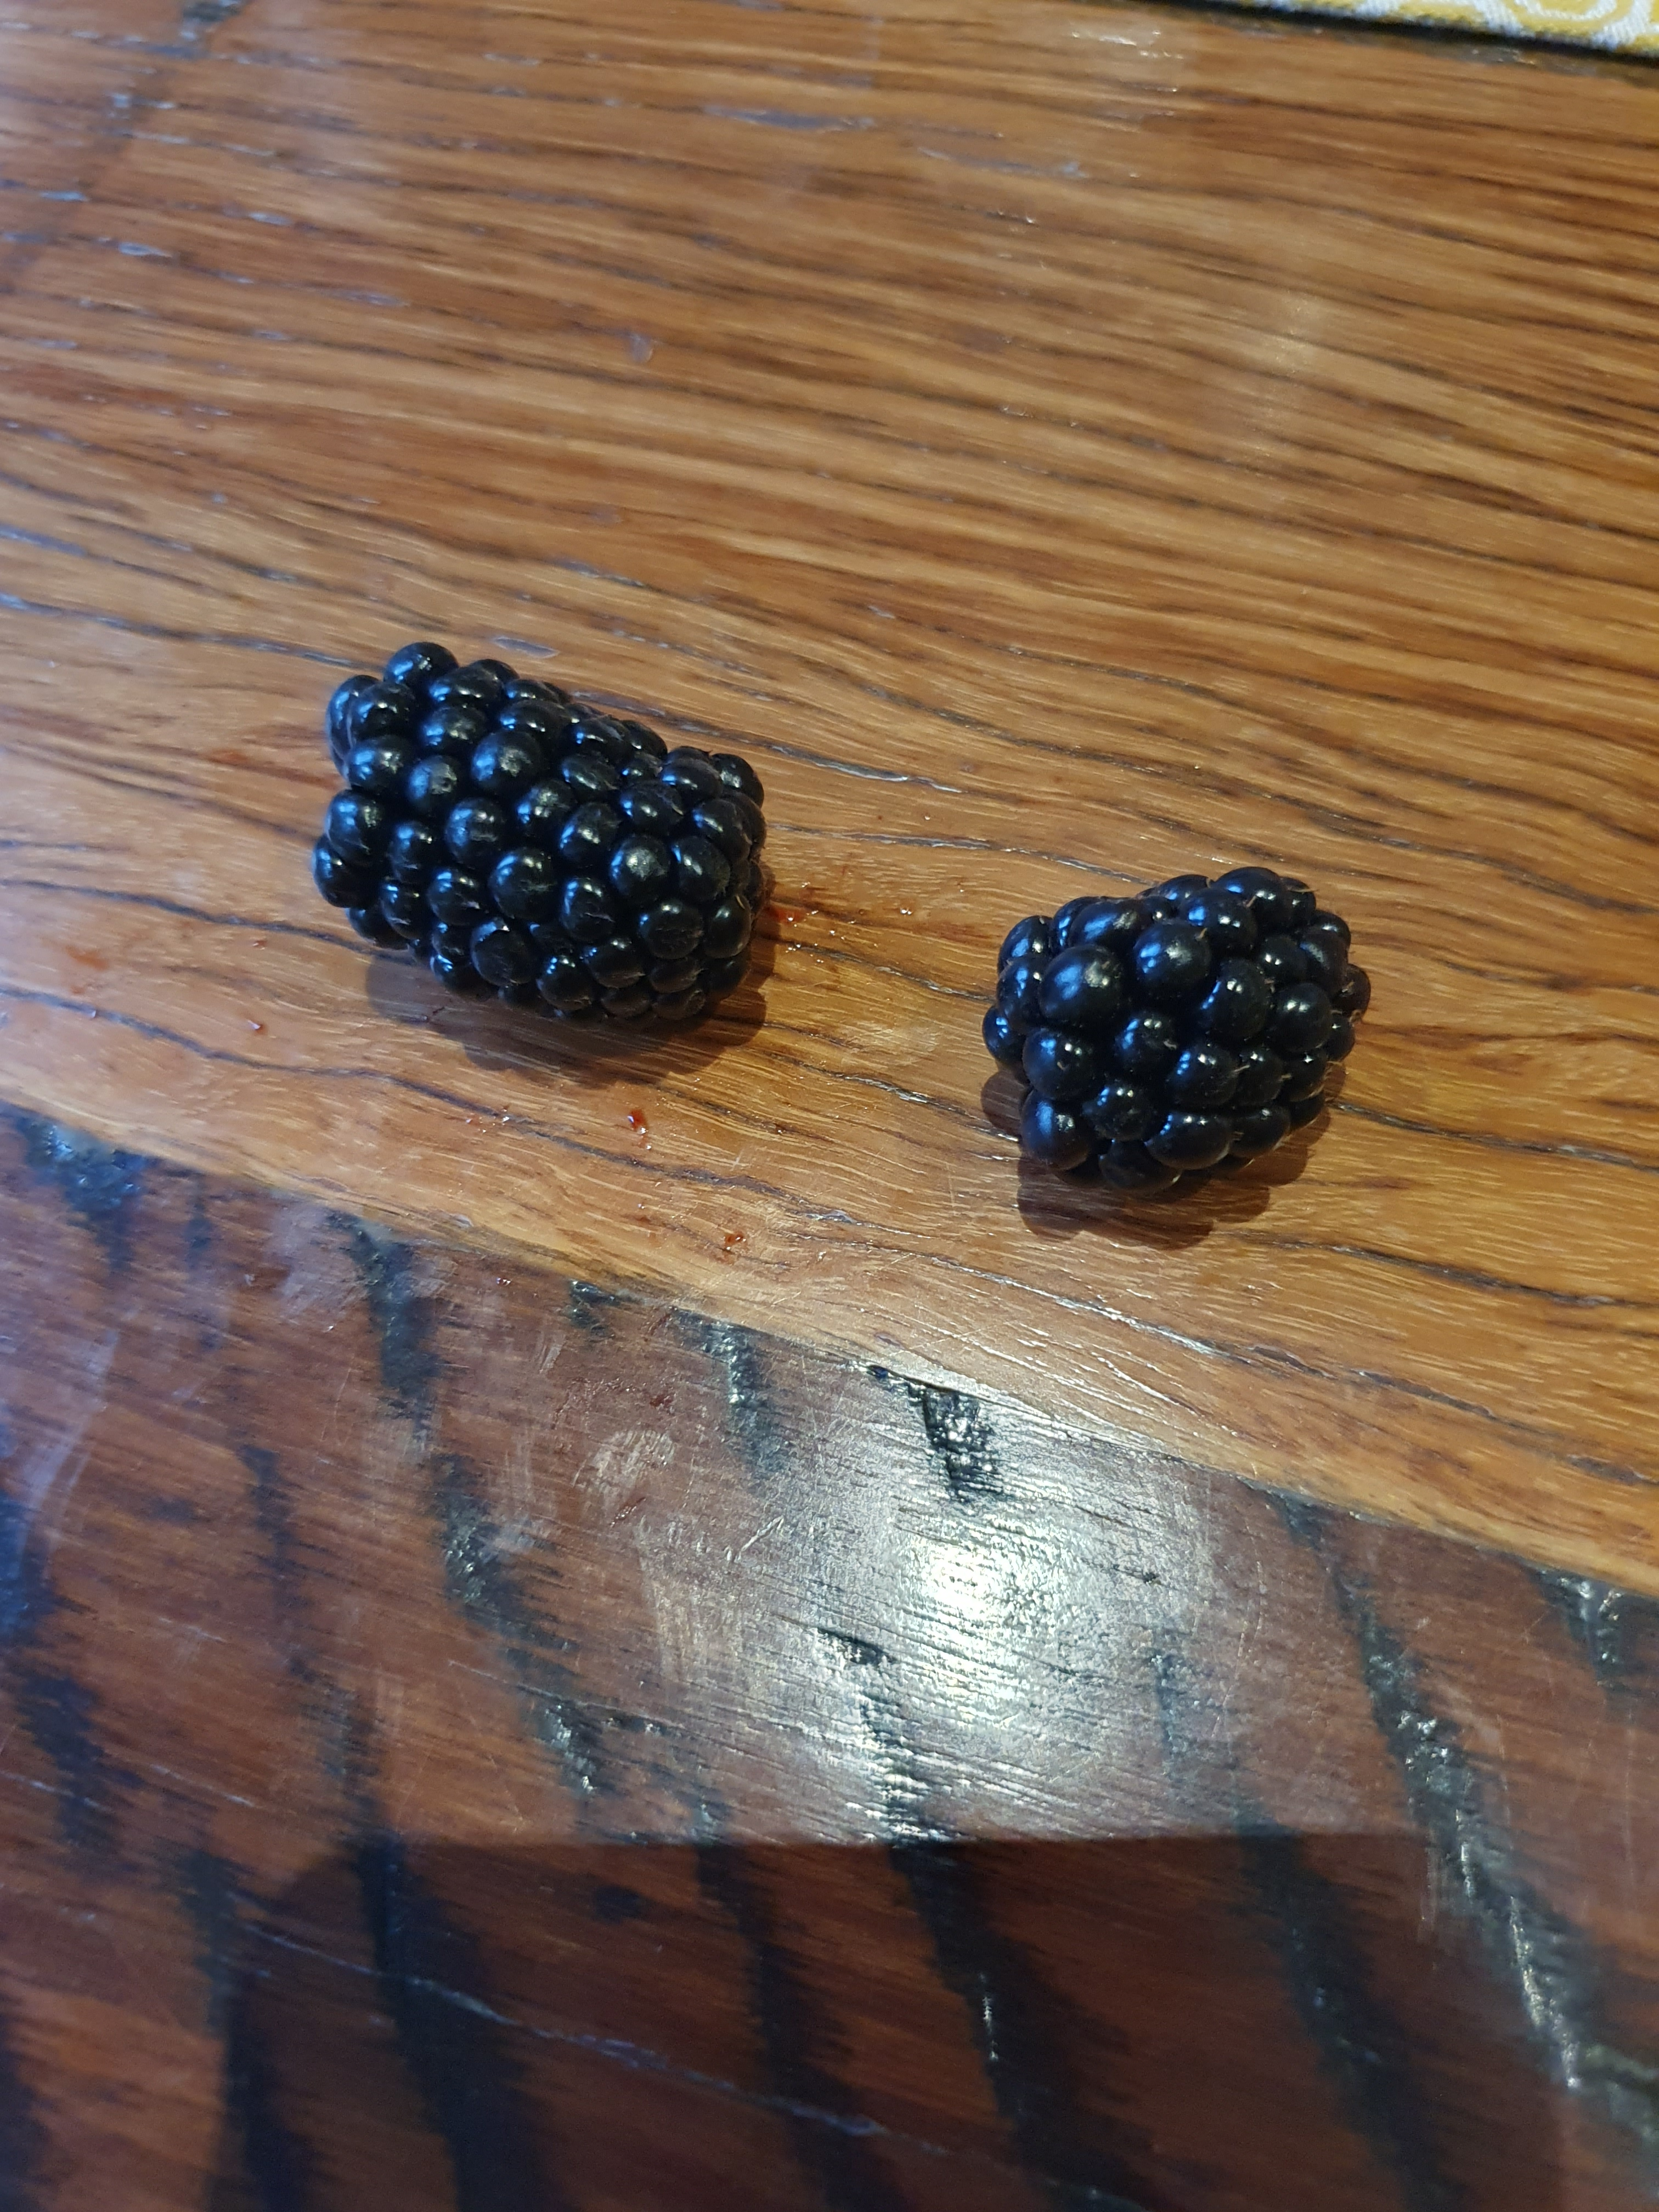blackberry: (277, 632, 775, 1045), (950, 838, 1391, 1223)
